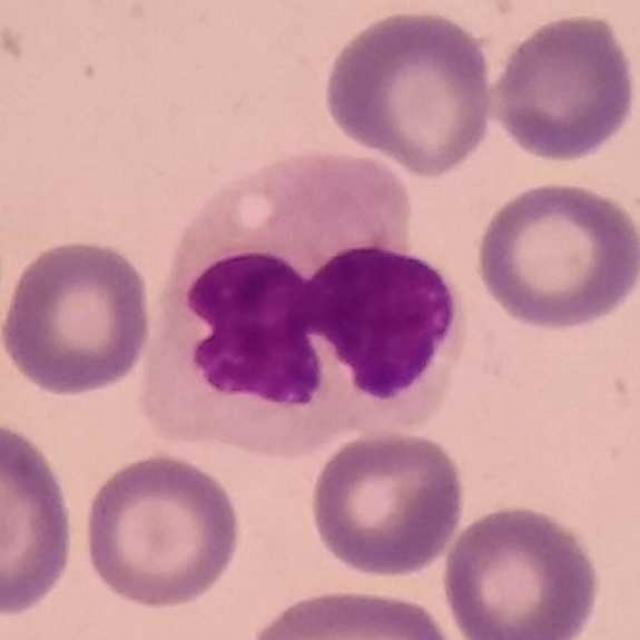Monocyte: (144, 135, 473, 452)
RBC: (320, 6, 498, 178), (78, 449, 246, 613), (471, 176, 640, 333), (0, 233, 158, 400), (305, 424, 469, 580), (485, 9, 639, 165), (438, 500, 606, 640), (0, 415, 80, 620), (238, 582, 463, 640)
